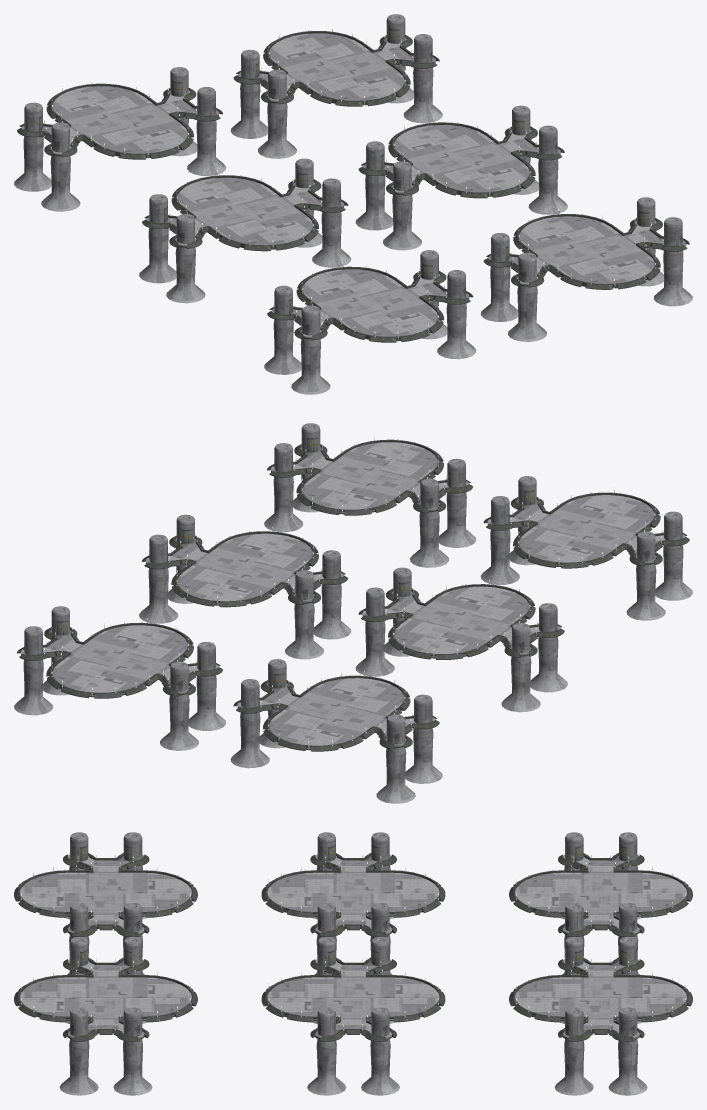
File: landPad6_mesh.DAE
3 renders of one model, top to bottom at view 1: azimuth 30°, elevation 25°; view 2: azimuth 150°, elevation 25°; view 3: azimuth 270°, elevation 25°, orthographic.
Visible parts, largest first — view 1: PadSurface (×2), PadSurface04 (×2), PadSurface02 (×2), PadSurface05 (×2), PadSurface01 (×2), PadSurface03 (×2), PadWallOuter01, PadWallOuter04, PadWallOuter02, PadWallOuter05, PadWallOuter, PadWallOuter03 (+6 smaller); view 2: PadSurface (×2), PadSurface04 (×2), PadSurface01 (×2), PadSurface02 (×2), PadSurface03 (×2), PadSurface05 (×2), PadWallOuter01, PadWallOuter05, PadWallOuter, PadWallOuter03, PadWallOuter04, PadWallOuter02 (+6 smaller); view 3: PadSurface04 (×2), PadSurface02 (×2), PadSurface (×2), PadSurface05 (×2), PadSurface03 (×2), PadSurface01 (×2), PadWallOuter04, PadWallOuter05, PadWallOuter01, PadWallOuter, PadWallOuter02, PadWallOuter03 (+6 smaller).
Boxes of the visible parts, <box> form: PadSurface (×2): <box>230,14,442,158</box>; PadSurface04 (×2): <box>480,197,692,341</box>; PadSurface02 (×2): <box>355,105,567,250</box>; PadSurface05 (×2): <box>264,250,476,394</box>; PadSurface01 (×2): <box>14,67,226,211</box>; PadSurface03 (×2): <box>139,158,351,303</box>; PadWallOuter01: <box>17,88,222,159</box>; PadWallOuter04: <box>483,218,689,289</box>; PadWallOuter02: <box>358,126,564,198</box>; PadWallOuter05: <box>267,271,473,342</box>; PadWallOuter: <box>233,35,439,106</box>; PadWallOuter03: <box>142,179,348,251</box>; PadSurface (×2): <box>14,606,226,750</box>; PadSurface04 (×2): <box>264,423,476,567</box>; PadSurface01 (×2): <box>230,659,442,803</box>; PadSurface02 (×2): <box>139,514,351,659</box>; PadSurface03 (×2): <box>355,567,567,712</box>; PadSurface05 (×2): <box>480,476,692,620</box>; PadWallOuter01: <box>233,680,439,751</box>; PadWallOuter05: <box>483,497,689,568</box>; PadWallOuter: <box>17,627,222,698</box>; PadWallOuter03: <box>358,588,564,659</box>; PadWallOuter04: <box>267,444,472,515</box>; PadWallOuter02: <box>142,535,347,607</box>; PadSurface04 (×2): <box>20,937,191,1095</box>; PadSurface02 (×2): <box>267,937,439,1095</box>; PadSurface (×2): <box>515,937,686,1095</box>; PadSurface05 (×2): <box>20,832,191,974</box>; PadSurface03 (×2): <box>267,832,439,974</box>; PadSurface01 (×2): <box>515,832,686,974</box>; PadWallOuter04: <box>14,958,197,1041</box>; PadWallOuter05: <box>14,854,197,936</box>; PadWallOuter01: <box>509,854,692,936</box>; PadWallOuter: <box>509,958,692,1041</box>; PadWallOuter02: <box>261,959,445,1041</box>; PadWallOuter03: <box>261,854,445,936</box>.
Size of what is drawn, in the model's own units: 550 by 102 by 823.
